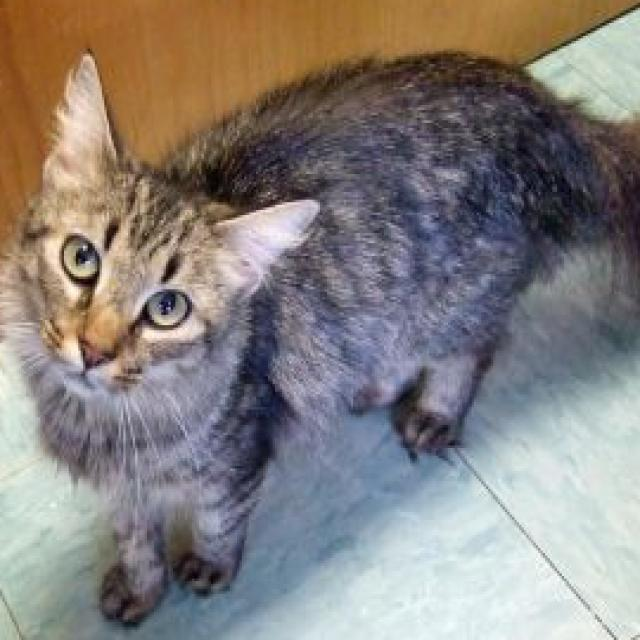Maine Coon: (0, 44, 640, 627)
